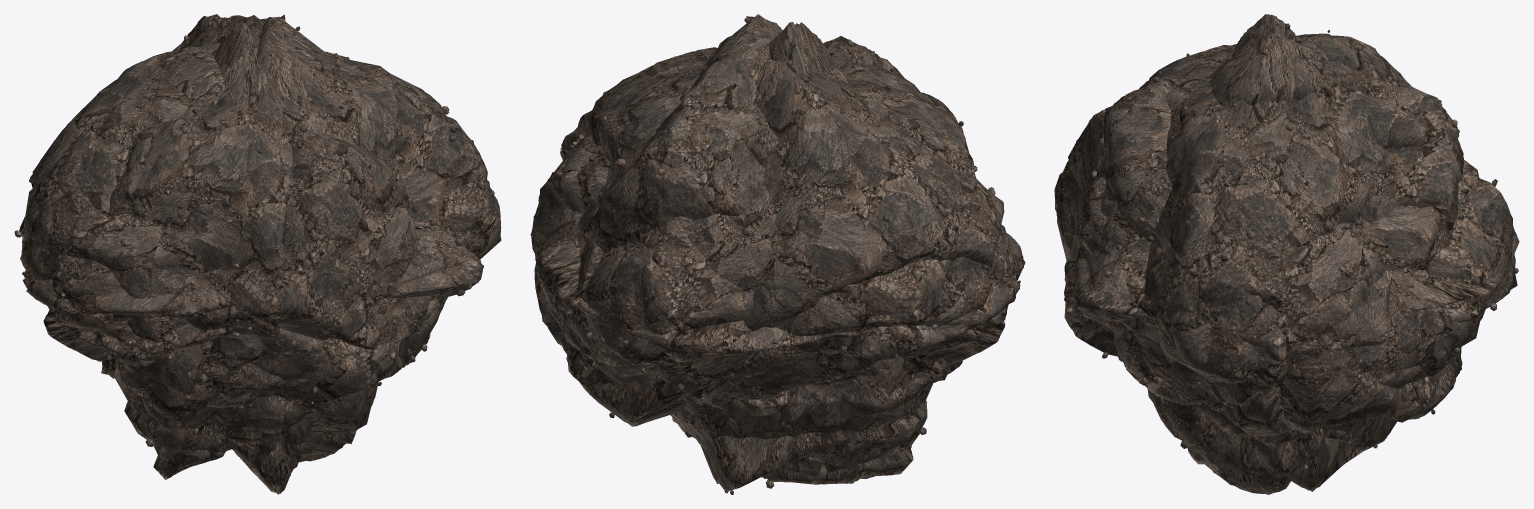
Rendered from asteroids.glb.
3 renders of one model, left to right at view 1: azimuth 30°, elevation 25°; view 2: azimuth 150°, elevation 25°; view 3: azimuth 270°, elevation 25°, orthographic. The views are drawn at different scales.
Visible parts, largest first — view 1: rock_00_fractured-block_L0, rock_15_offset-boulder_L0, rock_07_rubble-block_L0, rock_05_stepped-strata_L0, rock_00_fractured-block_L2, rock_00_fractured-block_L1, rock_15_offset-boulder_L1, rock_05_stepped-strata_L1, rock_07_rubble-block_L1, rock_07_rubble-block_L2, rock_15_offset-boulder_L2, rock_10_broken-disc_L0 (+22 smaller); view 2: rock_15_offset-boulder_L0, rock_05_stepped-strata_L0, rock_07_rubble-block_L0, rock_05_stepped-strata_L1, rock_06_impact-basin_L0, rock_15_offset-boulder_L1, rock_15_offset-boulder_L2, rock_05_stepped-strata_L2, rock_00_fractured-block_L0, rock_06_impact-basin_L1, rock_14_battered-pyramid_L0, rock_06_impact-basin_L2 (+19 smaller); view 3: rock_00_fractured-block_L0, rock_05_stepped-strata_L0, rock_07_rubble-block_L0, rock_00_fractured-block_L1, rock_00_fractured-block_L2, rock_15_offset-boulder_L0, rock_11_three-lobed_L0, rock_07_rubble-block_L1, rock_05_stepped-strata_L1, rock_05_stepped-strata_L2, rock_06_impact-basin_L0, rock_10_broken-disc_L0 (+21 smaller).
Part boxes in pixels (left/top/right/bottom): rock_00_fractured-block_L0: left=109, top=53, right=501, bottom=399; rock_15_offset-boulder_L0: left=29, top=46, right=421, bottom=409; rock_07_rubble-block_L0: left=185, top=106, right=419, bottom=360; rock_05_stepped-strata_L0: left=124, top=14, right=430, bottom=479; rock_00_fractured-block_L2: left=131, top=60, right=501, bottom=394; rock_00_fractured-block_L1: left=109, top=51, right=499, bottom=400; rock_15_offset-boulder_L1: left=32, top=46, right=422, bottom=404; rock_05_stepped-strata_L1: left=118, top=16, right=415, bottom=473; rock_07_rubble-block_L1: left=195, top=105, right=419, bottom=360; rock_07_rubble-block_L2: left=206, top=116, right=414, bottom=359; rock_15_offset-boulder_L2: left=30, top=43, right=412, bottom=400; rock_10_broken-disc_L0: left=28, top=205, right=482, bottom=362; rock_15_offset-boulder_L0: left=534, top=61, right=1004, bottom=426; rock_05_stepped-strata_L0: left=577, top=16, right=932, bottom=488; rock_07_rubble-block_L0: left=562, top=39, right=946, bottom=408; rock_05_stepped-strata_L1: left=578, top=21, right=933, bottom=485; rock_06_impact-basin_L0: left=532, top=155, right=1001, bottom=385; rock_15_offset-boulder_L1: left=534, top=61, right=1003, bottom=424; rock_15_offset-boulder_L2: left=541, top=60, right=1003, bottom=426; rock_05_stepped-strata_L2: left=592, top=14, right=921, bottom=479; rock_00_fractured-block_L0: left=577, top=48, right=977, bottom=186; rock_06_impact-basin_L1: left=531, top=156, right=1002, bottom=384; rock_14_battered-pyramid_L0: left=695, top=22, right=962, bottom=494; rock_06_impact-basin_L2: left=533, top=162, right=1002, bottom=377; rock_00_fractured-block_L0: left=1139, top=45, right=1402, bottom=386; rock_05_stepped-strata_L0: left=1064, top=35, right=1464, bottom=445; rock_07_rubble-block_L0: left=1054, top=70, right=1518, bottom=322; rock_00_fractured-block_L1: left=1140, top=45, right=1402, bottom=384; rock_00_fractured-block_L2: left=1151, top=44, right=1391, bottom=384; rock_15_offset-boulder_L0: left=1082, top=30, right=1462, bottom=436; rock_11_three-lobed_L0: left=1109, top=221, right=1388, bottom=406; rock_07_rubble-block_L1: left=1054, top=68, right=1515, bottom=320; rock_05_stepped-strata_L1: left=1064, top=35, right=1463, bottom=443; rock_05_stepped-strata_L2: left=1068, top=33, right=1458, bottom=442; rock_06_impact-basin_L0: left=1078, top=219, right=1485, bottom=425; rock_10_broken-disc_L0: left=1072, top=226, right=1517, bottom=324.
Bounding box in the file's own units: 2 × 1.98 × 1.84.
1 material, 1 textured.
